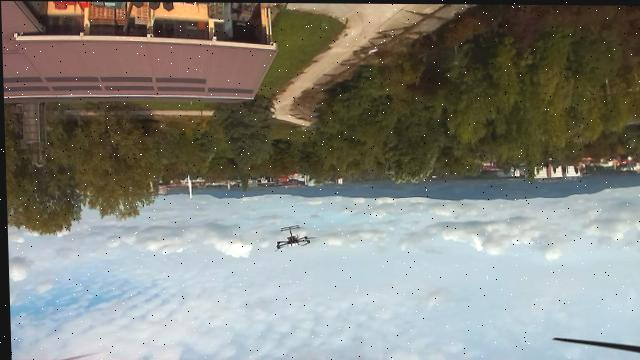drone: (237, 214, 346, 261)
